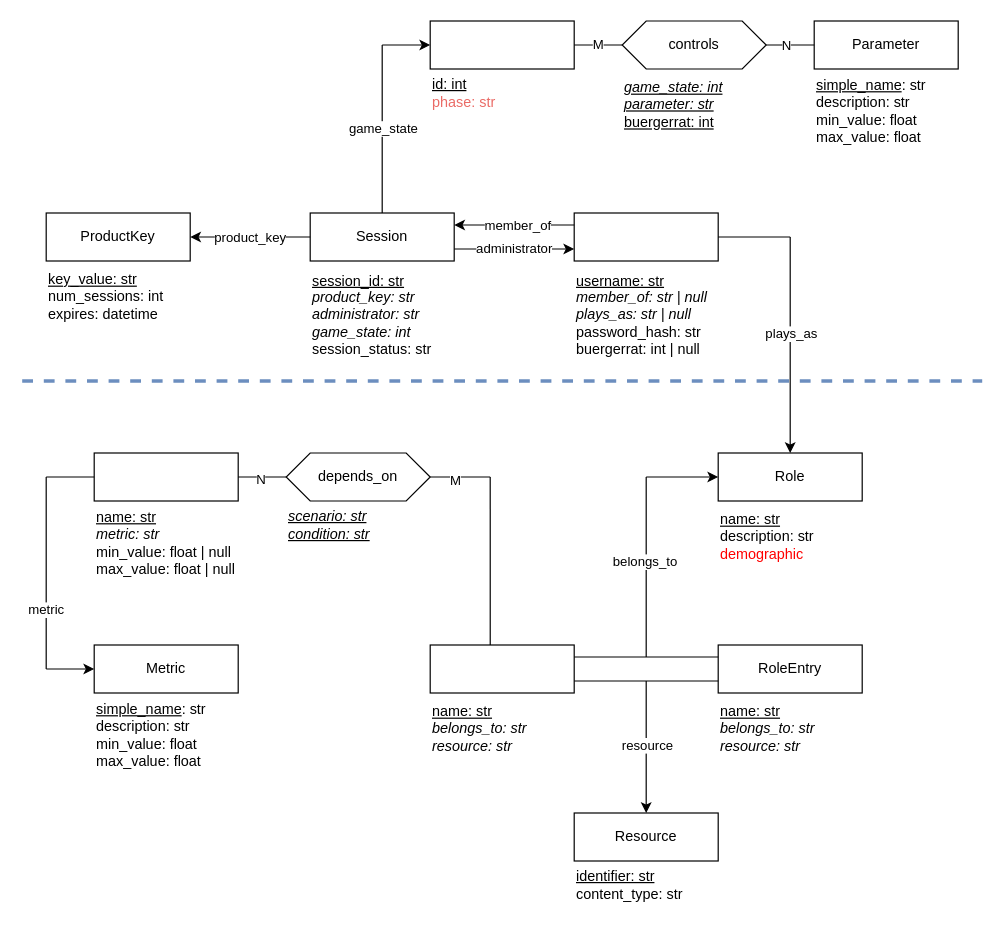
The diagram is 1006 pixels wide and 930 high, and some of its shapes have lost their labels. Here are the shapes that lost their labels. From the top down, the centre of each, then its label:
pixel 501 44: GameState
pixel 645 236: User
pixel 165 476: ScenarioCondition
pixel 501 668: Scenario
